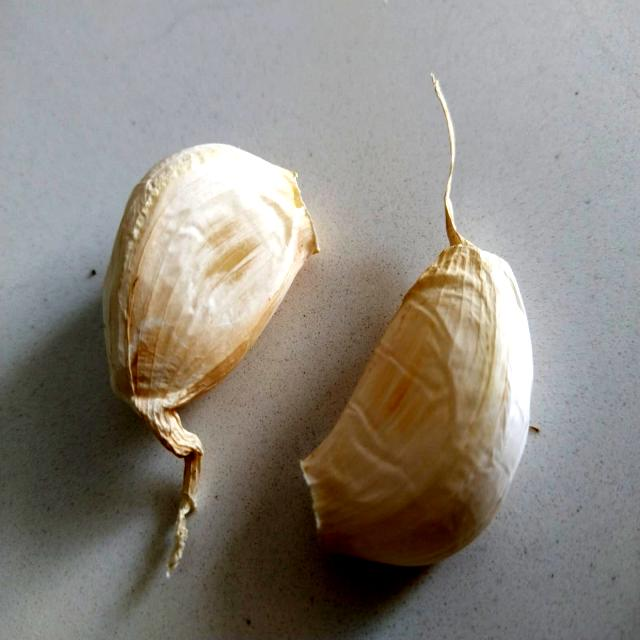garlic: (304, 171, 556, 581), (66, 102, 318, 479)
